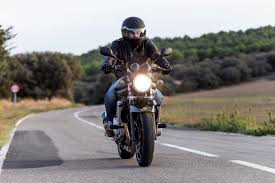motorcycle: (92, 46, 172, 168)
